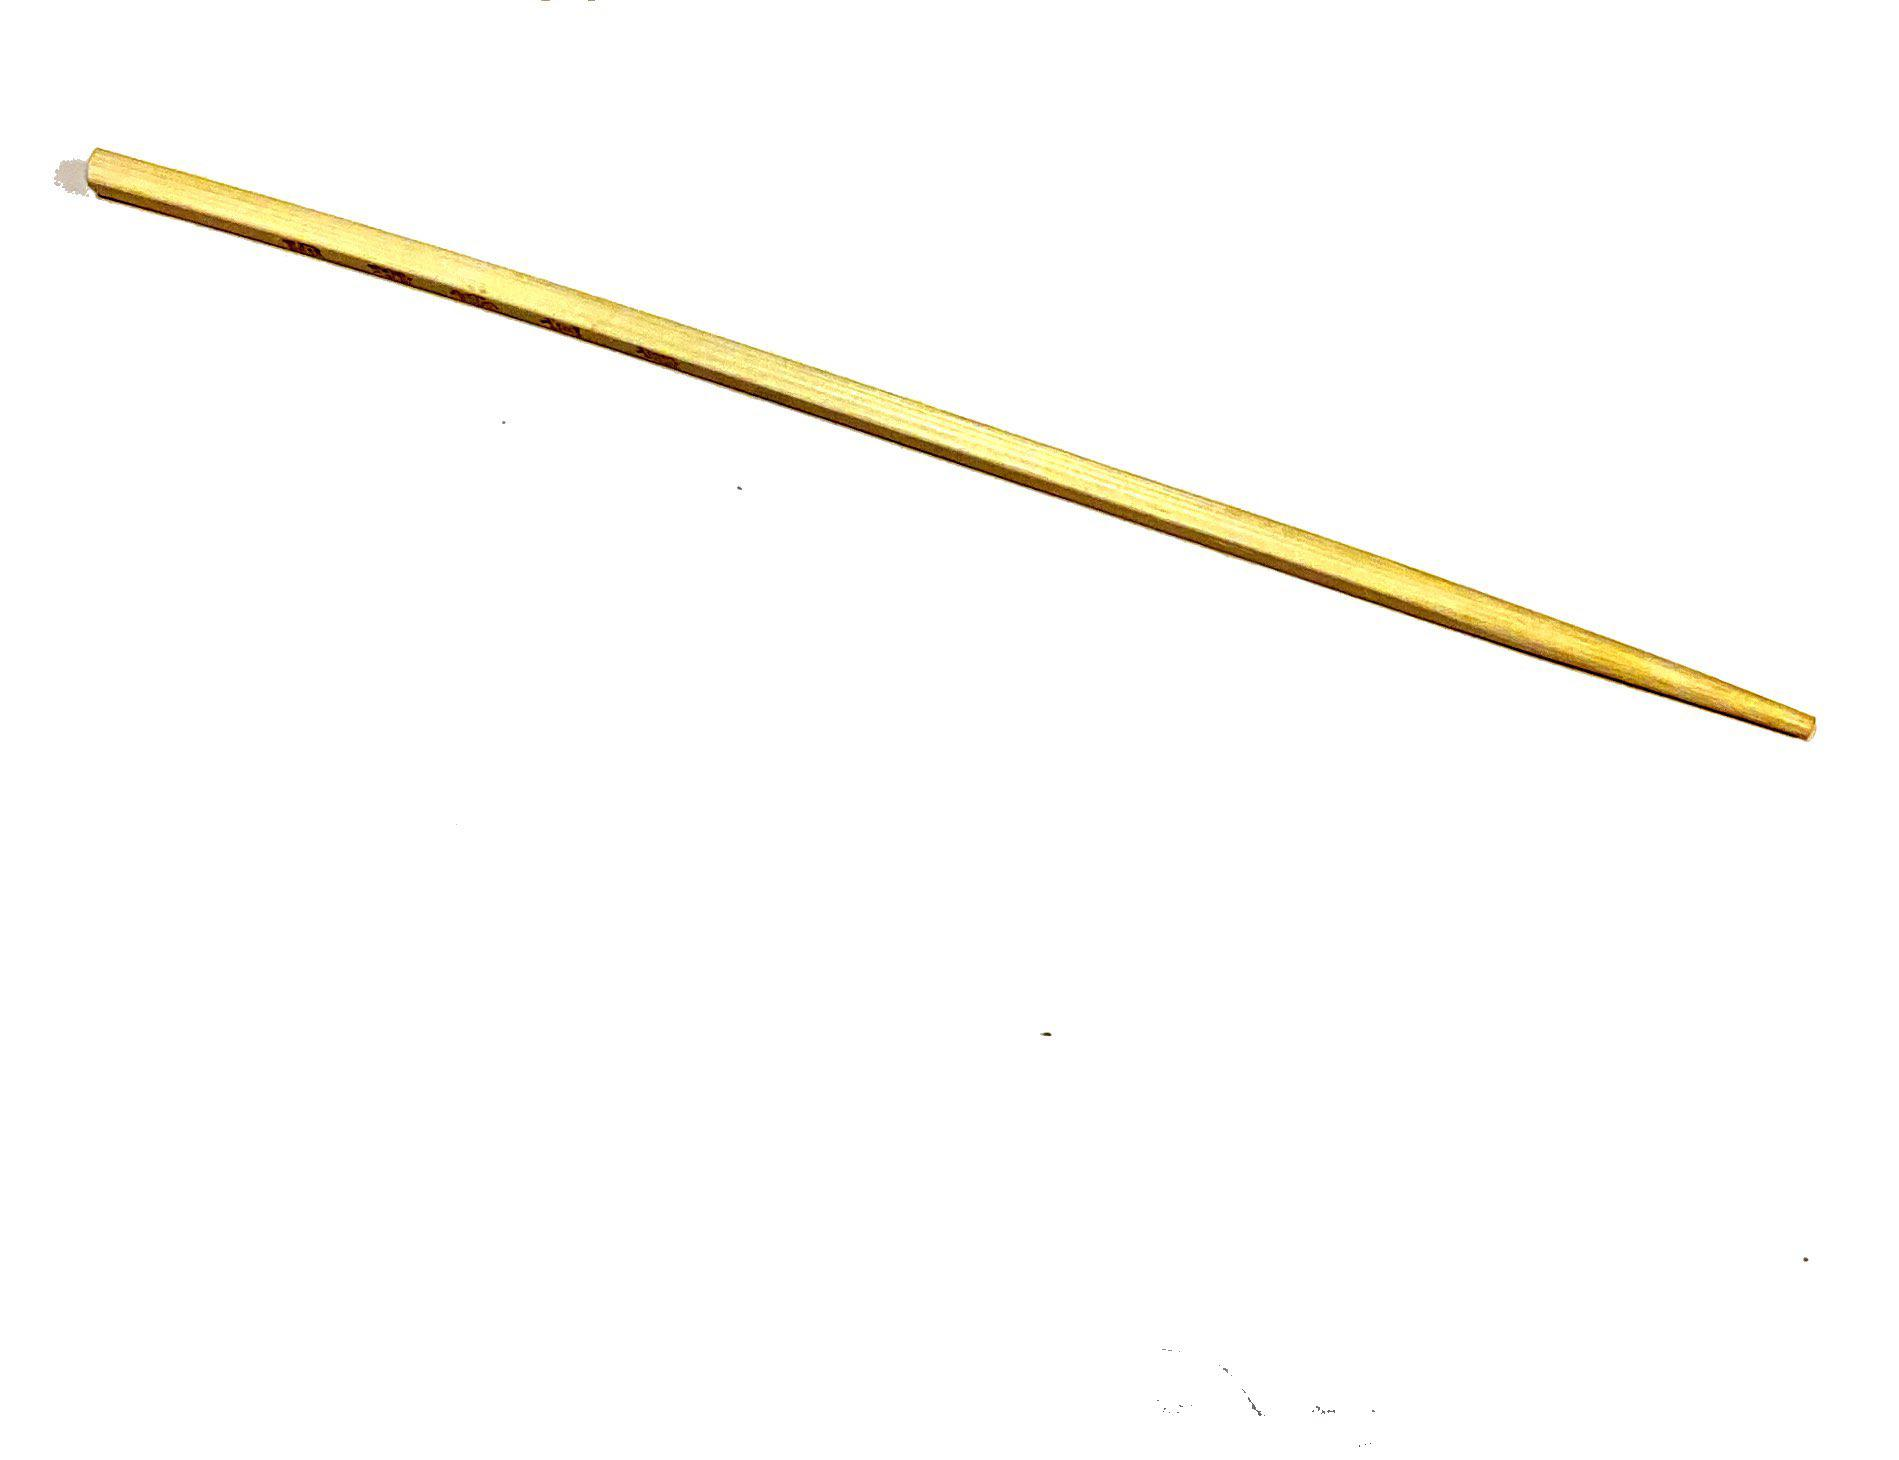Chopstick: (66, 55, 1838, 851)
